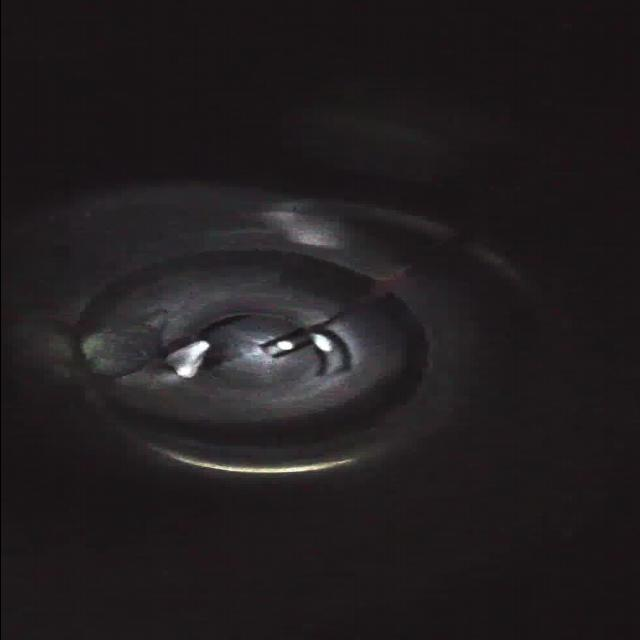impurity: (164, 336, 214, 382)
